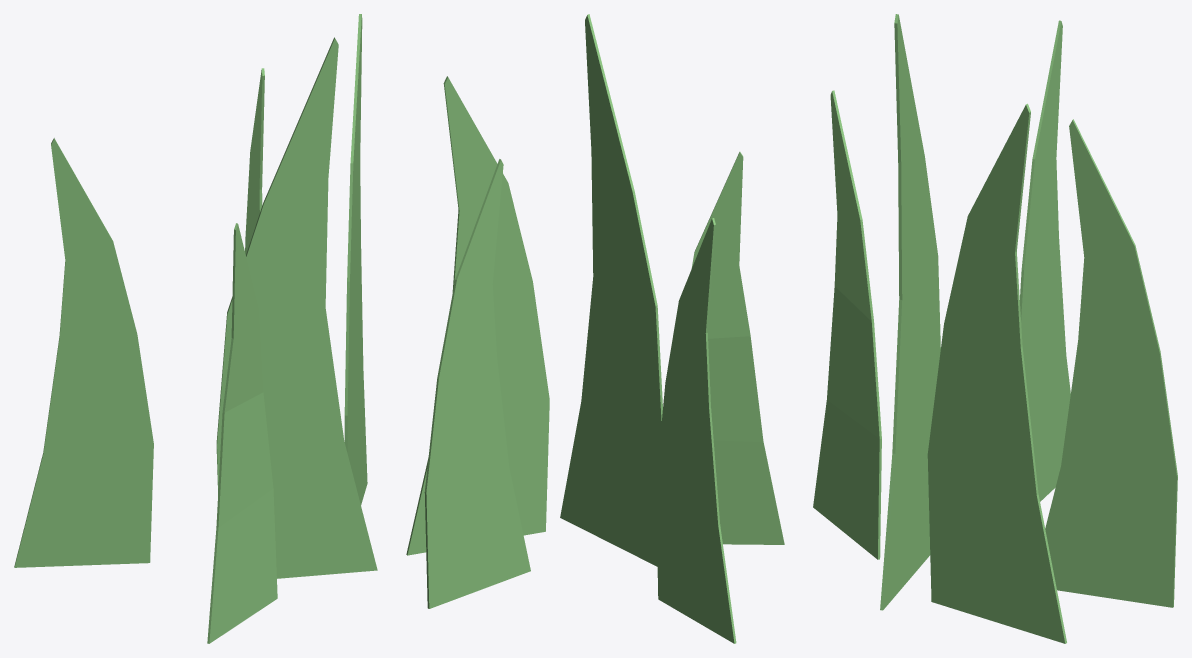
The model's file is --ramen3.glb.
3 renders of one model, left to right at view 1: azimuth 30°, elevation 25°; view 2: azimuth 150°, elevation 25°; view 3: azimuth 270°, elevation 25°, orthographic. The views are drawn at different scales.
Visible parts, largest first — view 1: Plane.017, Plane.018, Plane.002, Plane.001, Plane.019; view 2: Plane.017, Plane.019, Plane.018, Plane.001, Plane.002; view 3: Plane.001, Plane.019, Plane.017, Plane.002, Plane.018.
Boxes of the visible parts, <box> form: Plane.017: <box>216,37,377,578</box>; Plane.018: <box>14,138,153,567</box>; Plane.002: <box>207,223,277,643</box>; Plane.001: <box>344,14,367,504</box>; Plane.019: <box>245,68,264,254</box>; Plane.017: <box>560,14,662,566</box>; Plane.019: <box>424,159,530,608</box>; Plane.018: <box>656,218,736,643</box>; Plane.001: <box>406,76,549,555</box>; Plane.002: <box>691,151,784,544</box>; Plane.001: <box>927,103,1066,643</box>; Plane.019: <box>1045,119,1177,607</box>; Plane.017: <box>880,14,940,610</box>; Plane.002: <box>813,90,881,559</box>; Plane.018: <box>1019,20,1070,501</box>.
Size of the model in its own units: 0.0882 by 0.1305 by 0.0744.
